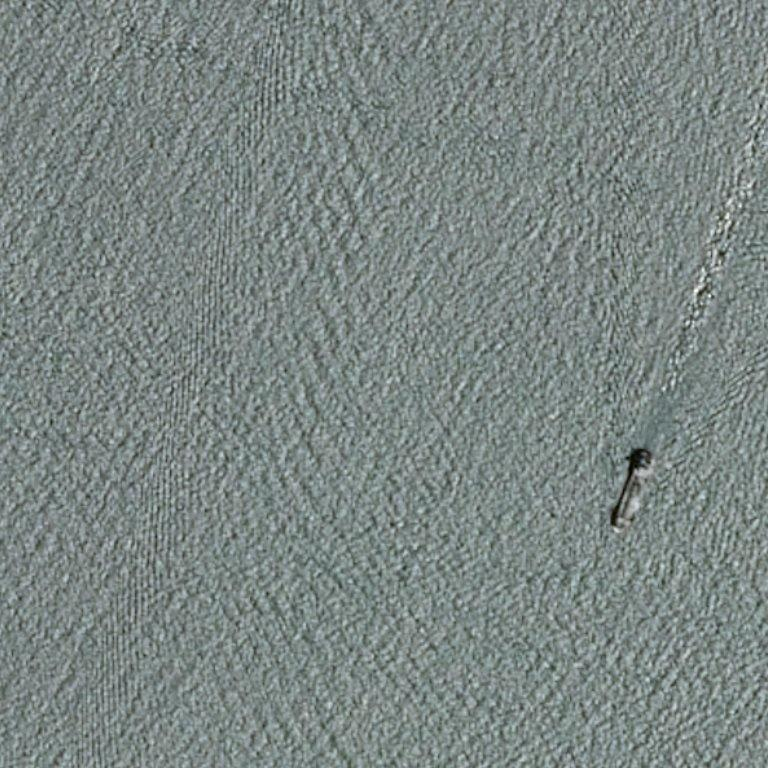ship: (607, 488, 659, 494), (610, 524, 626, 534), (613, 450, 622, 462), (647, 456, 657, 464)
